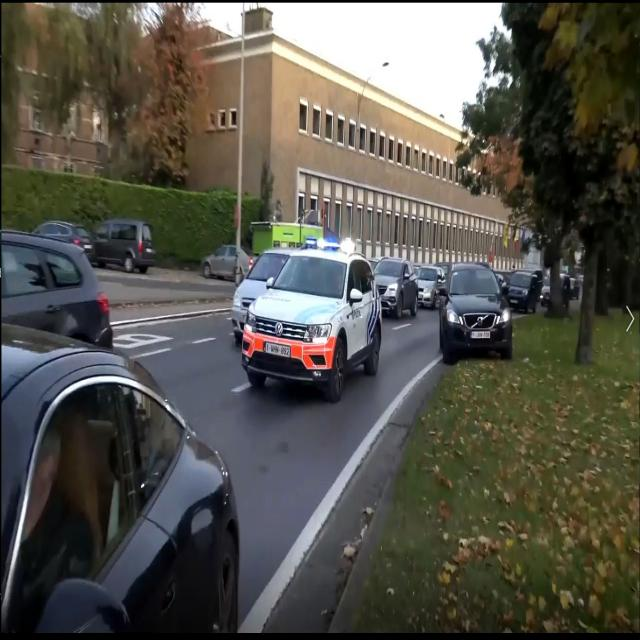emergency: (240, 235, 392, 402)
